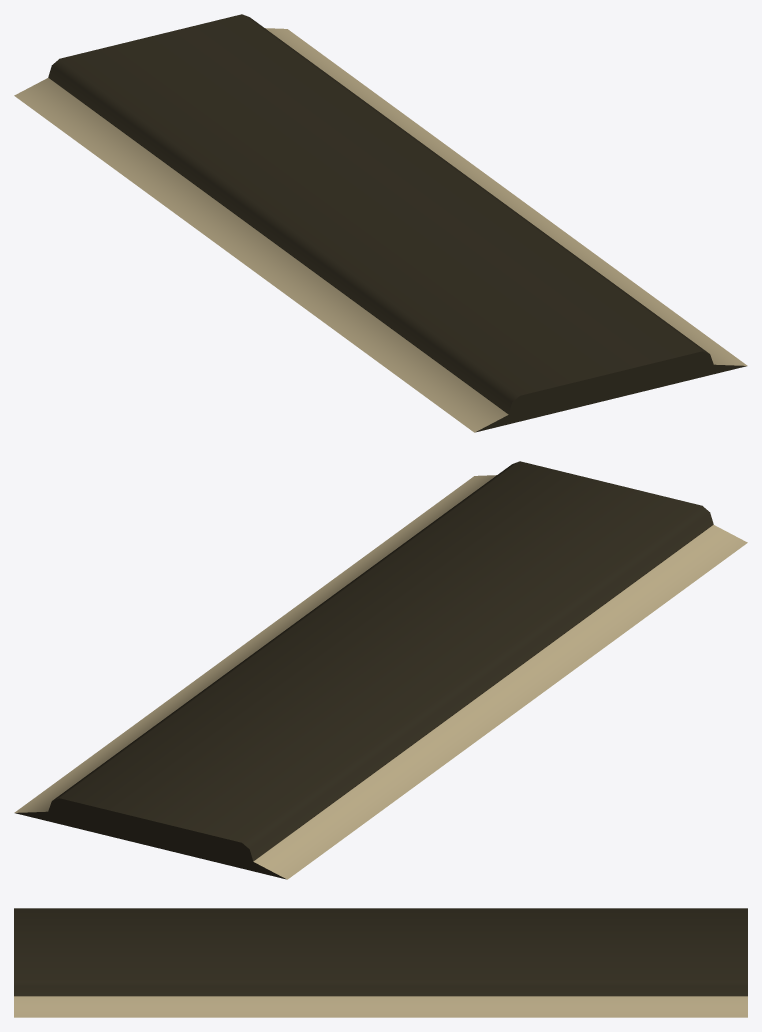
File: Road_Straight.fbx
The picture shows the model from 3 angles, top to bottom: view 1: azimuth 30°, elevation 25°; view 2: azimuth 150°, elevation 25°; view 3: azimuth 270°, elevation 25°; orthographic projection. The views are drawn at different scales.
Visible parts, largest first — view 1: Road_Straight; view 2: Road_Straight; view 3: Road_Straight.
Part boxes in pixels (x1=…): Road_Straight: x1=14, y1=14, x2=747, y2=432; Road_Straight: x1=14, y1=461, x2=747, y2=879; Road_Straight: x1=14, y1=908, x2=747, y2=1017.
Bounding box in the file's own units: 0.3 × 0.8745 × 0.0271.
